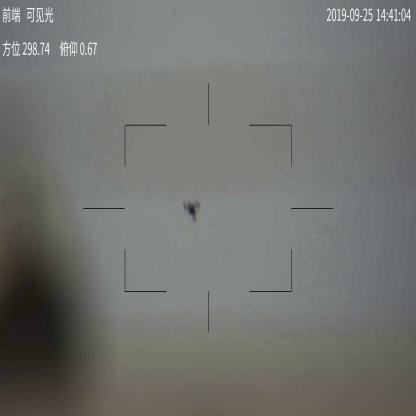uav: (182, 199, 202, 221)
